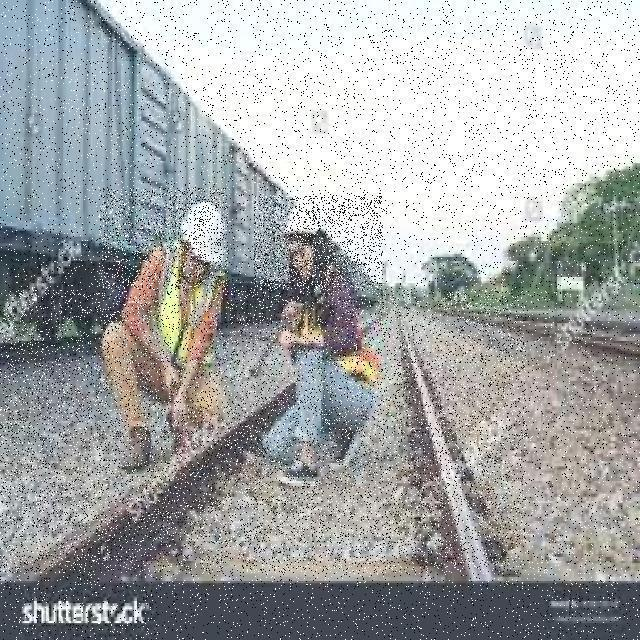rail: (1, 291, 527, 574)
